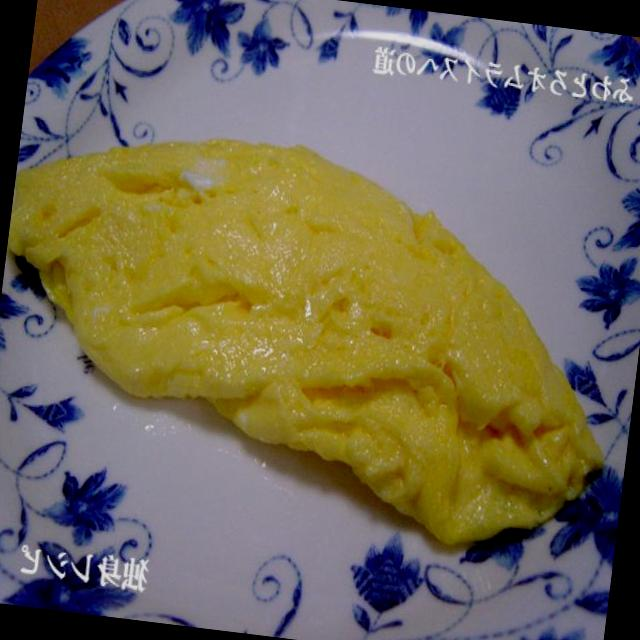Omelet: (0, 92, 640, 570)
